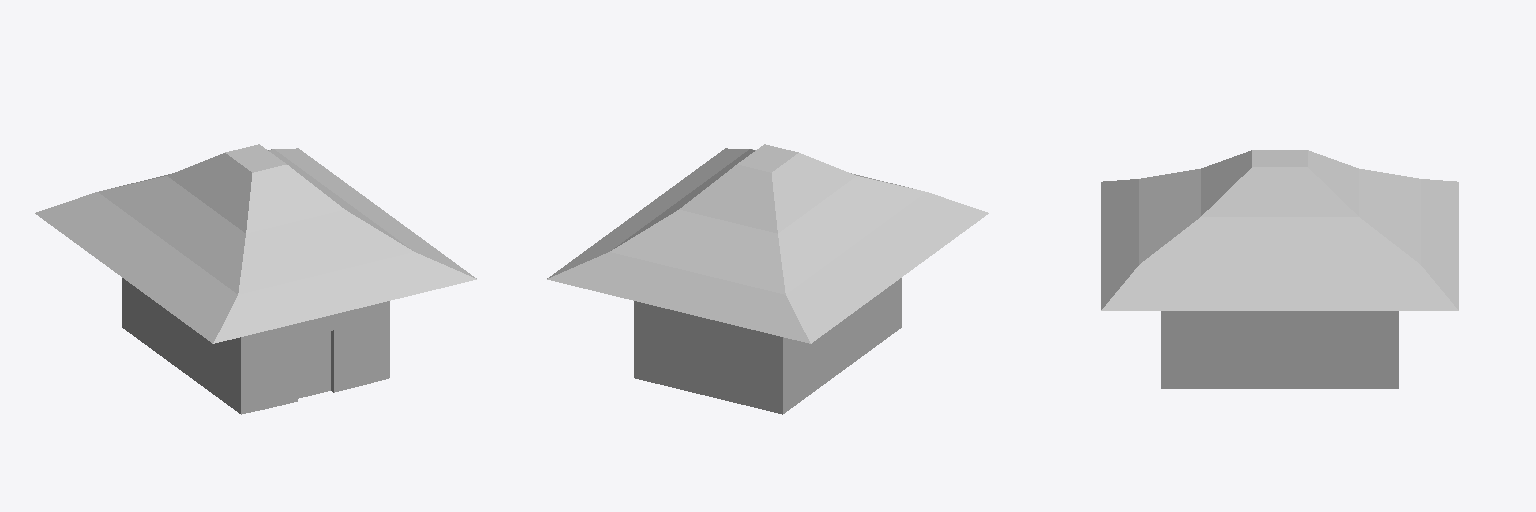
The model's file is Building3.obj.
3 views of the same model, side by side, from view 1: azimuth 30°, elevation 25°; view 2: azimuth 150°, elevation 25°; view 3: azimuth 270°, elevation 25° (orthographic).
Visible parts, largest first — view 1: Building3_Cube.005; view 2: Building3_Cube.005; view 3: Building3_Cube.005.
Part boxes in pixels (x1,y1,x2,y2): Building3_Cube.005: (35, 144, 476, 414); Building3_Cube.005: (547, 144, 988, 414); Building3_Cube.005: (1101, 150, 1458, 388).
Bounding box in the file's own units: 10.79 × 7.6 × 12.63.